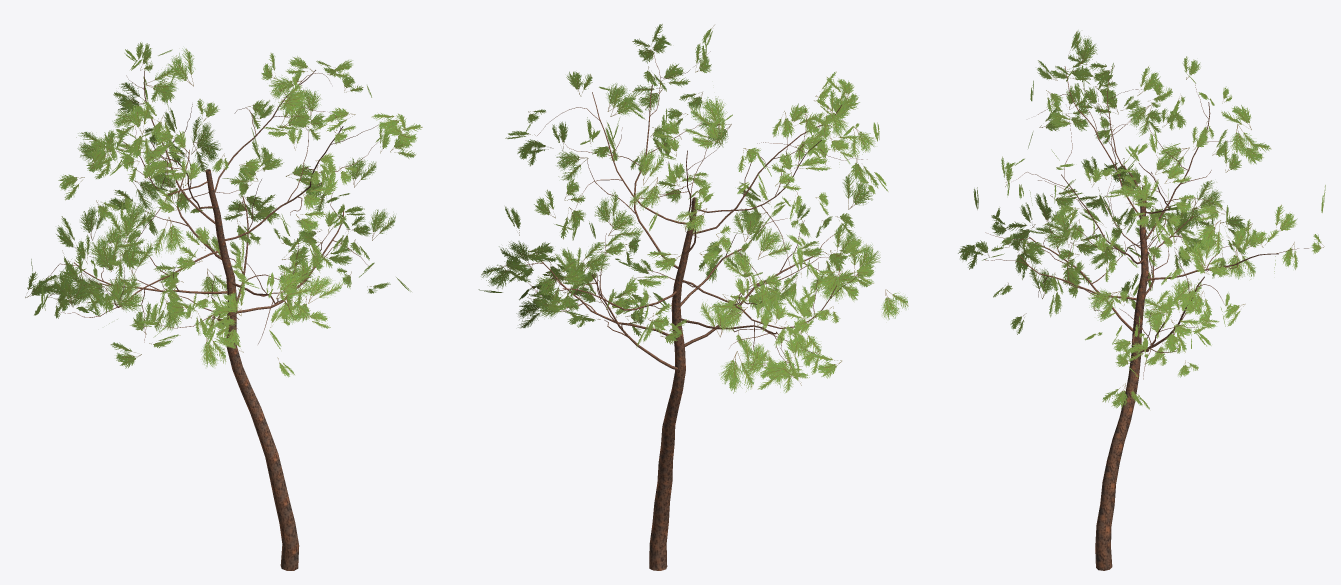
The model's file is AP3_AleppoPine_MatureUmbrella_14m.glb.
The picture shows the model from 3 angles, left to right: view 1: azimuth 30°, elevation 25°; view 2: azimuth 150°, elevation 25°; view 3: azimuth 270°, elevation 25°; orthographic projection. The views are drawn at different scales.
Visible parts, largest first — view 1: AP3_leaves, AP3_wood; view 2: AP3_leaves, AP3_wood; view 3: AP3_leaves, AP3_wood.
Boxes of the visible parts, x1,y1,x2,y2 form: AP3_leaves: [25, 42, 422, 377]; AP3_wood: [44, 70, 401, 570]; AP3_leaves: [478, 24, 908, 393]; AP3_wood: [506, 48, 867, 570]; AP3_leaves: [958, 30, 1325, 409]; AP3_wood: [985, 66, 1308, 570].
Bounding box in the file's own units: 10.71 × 14.01 × 10.27.
2 materials, 2 textured.
